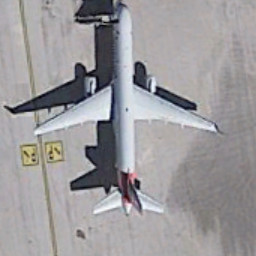Airplane: (13, 1, 229, 227)
